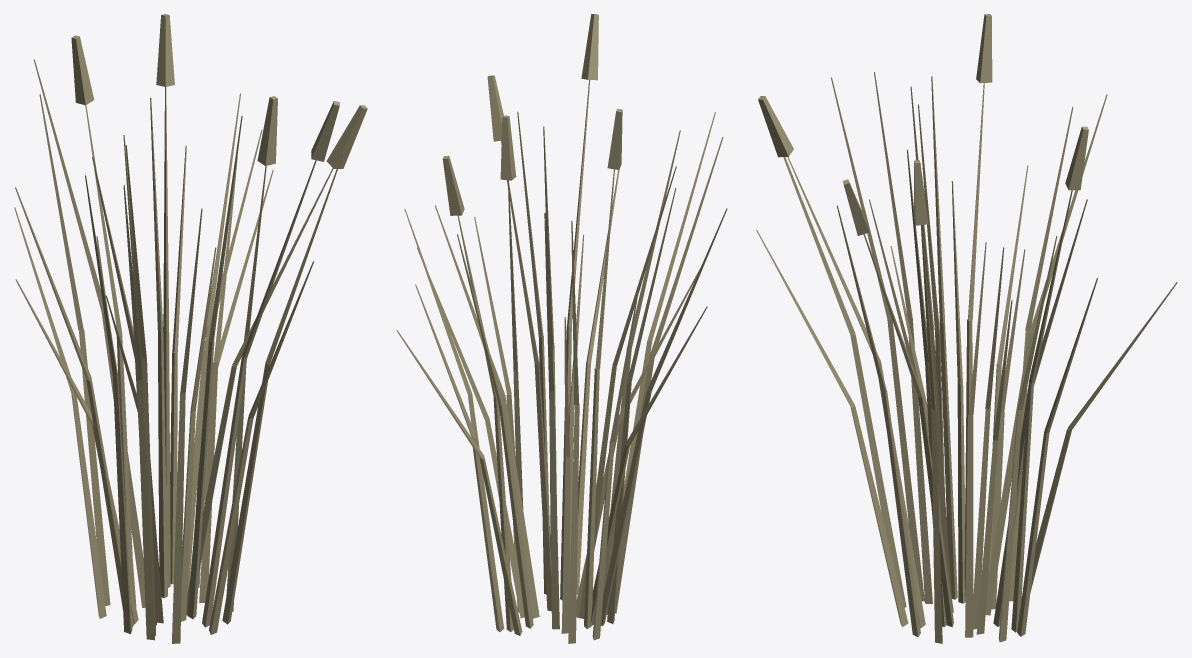
The model's file is reeds.glb.
3 renders of one model, left to right at view 1: azimuth 30°, elevation 25°; view 2: azimuth 150°, elevation 25°; view 3: azimuth 270°, elevation 25°, orthographic. The views are drawn at different scales.
Visible parts, largest first — view 1: reed; view 2: reed; view 3: reed.
Part boxes in pixels (x1,y1,x2,y2): reed: (14, 14, 367, 643); reed: (396, 14, 727, 643); reed: (756, 14, 1177, 643).
Size of the model in its own units: 0.9859 by 1.8 by 1.22.
